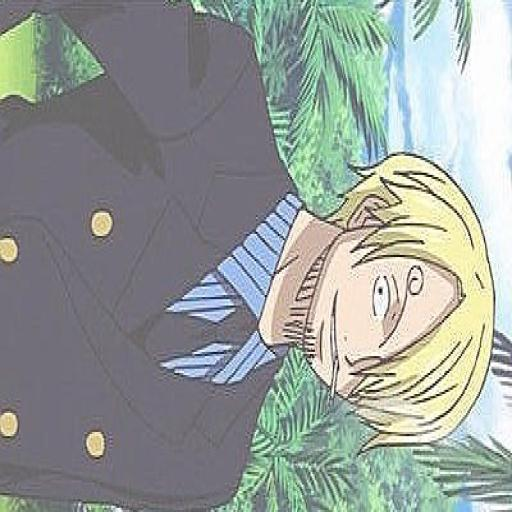sanji: (0, 0, 509, 505)
